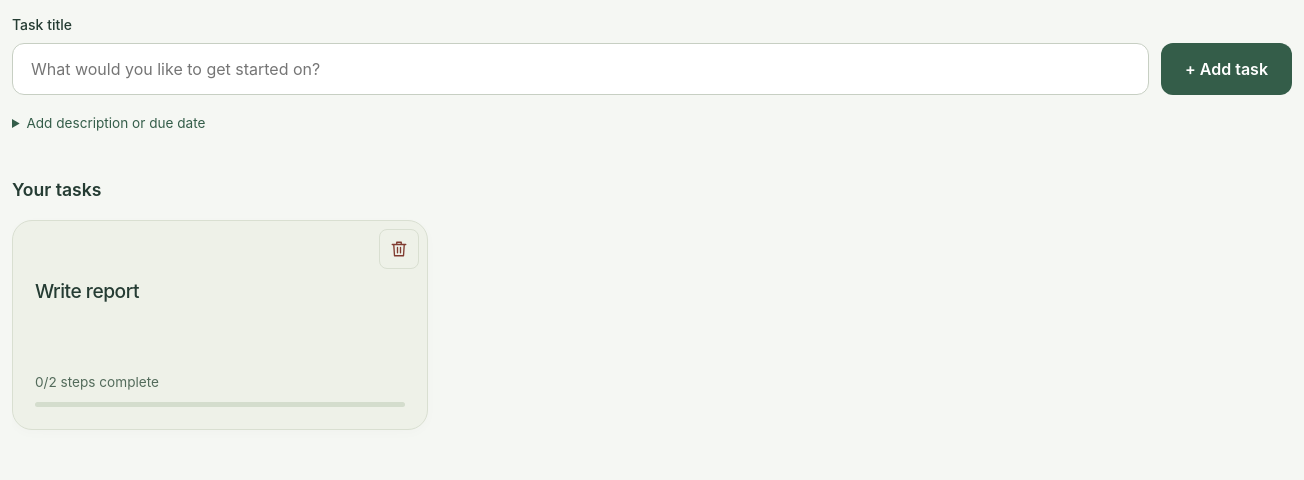
Test: focus keeps the current step visible, hides other steps, and resets for the next step
Click the button "Write report 0/2 steps complete" at x=87, y=291, box [13,221,427,429]
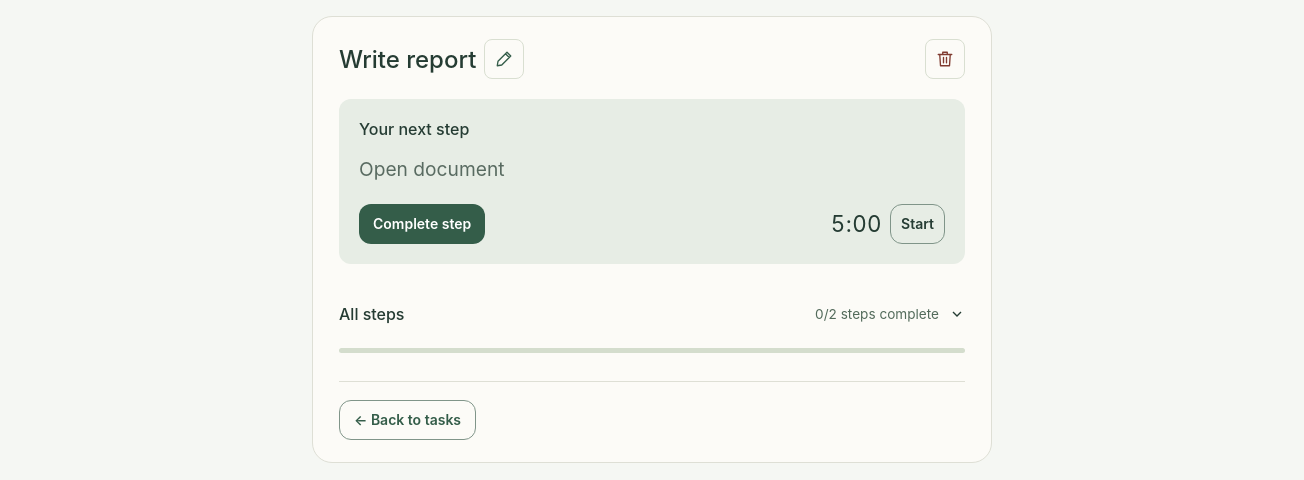
Click the button with aria-label "Start 5-minute focus" at x=918, y=224, box [890,204,945,244]
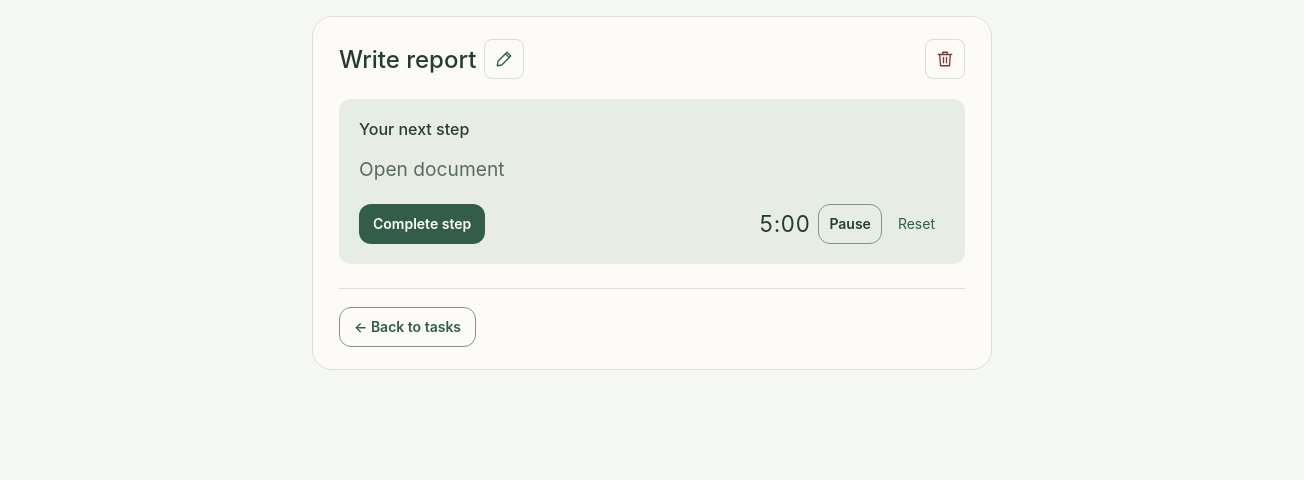
Expected: the text "Write one line" is not shown
Now the text "Open document" is shown, box [359,157,504,181]
Now the button "All steps" is gone
Click the button "Pause" at x=850, y=224, box [818,204,882,244]
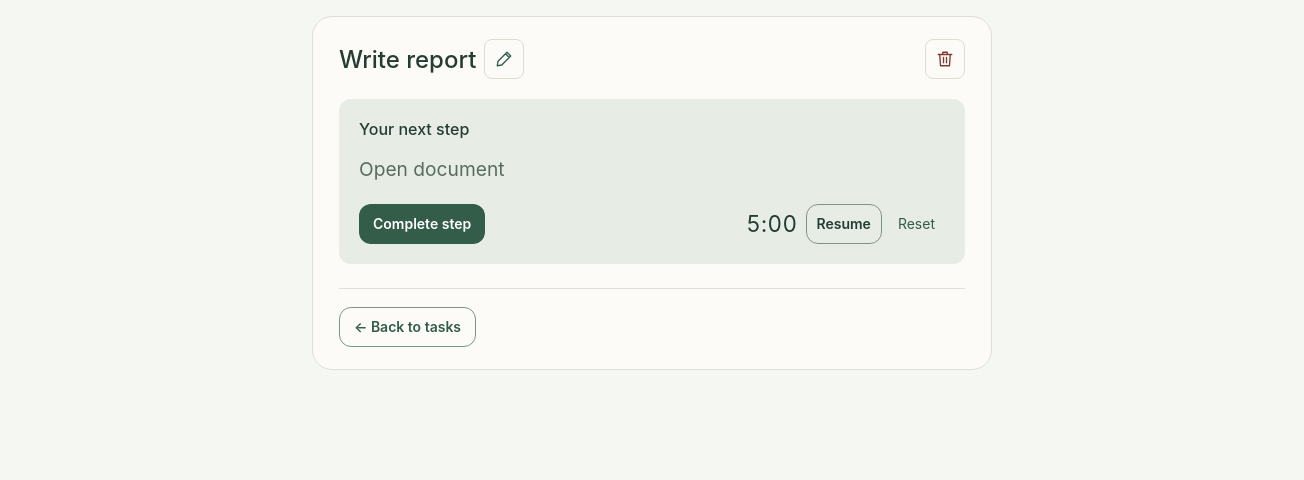
Now the button "Resume" is shown, box [806,204,882,244]
Click the button with aria-label "Reset timer" at x=916, y=224, box [888,204,945,244]
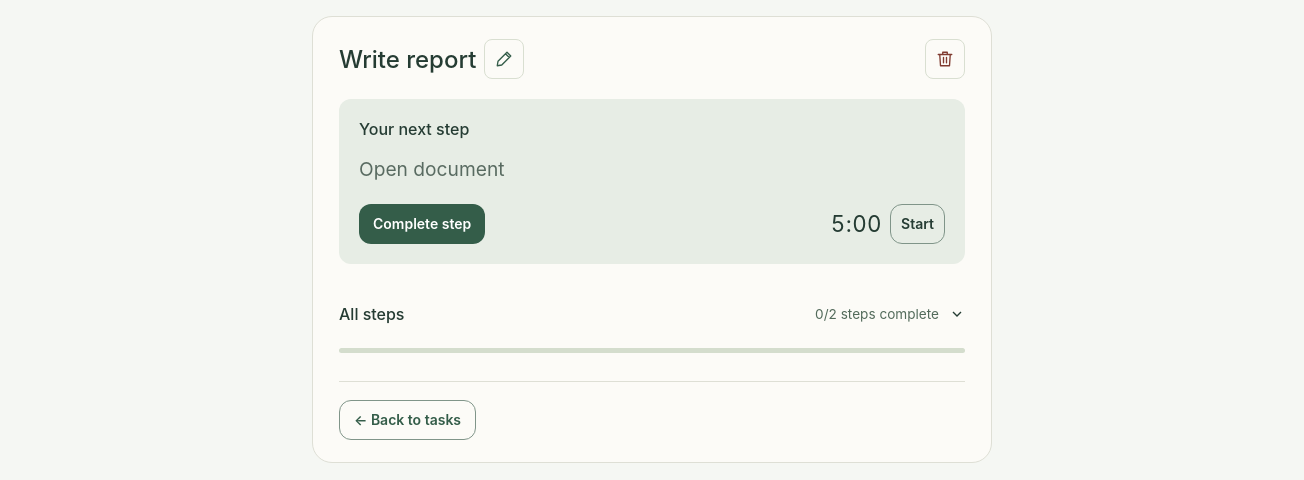
Now the element "All steps" is shown, box [339,292,965,353]
Click the button with aria-label "Start 5-minute focus" at x=918, y=224, box [890,204,945,244]
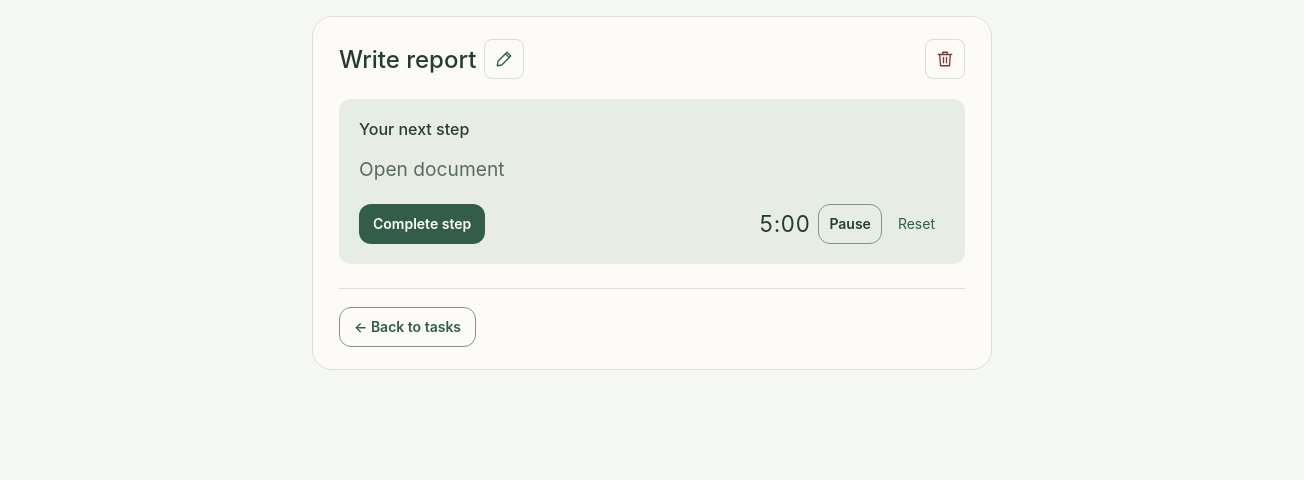
Click the button "Complete step" at x=422, y=224, box [359,204,485,244]
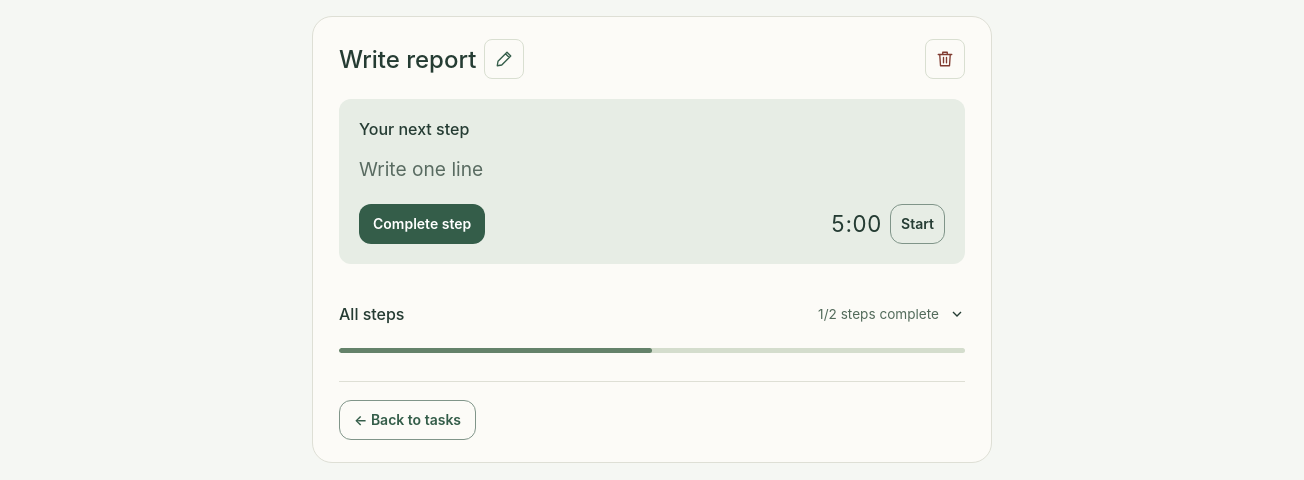
Now the text "5:00" is shown, box [831,210,882,237]
Now the button with aria-label "Start 5-minute focus" is shown, box [890,204,945,244]
Now the text "Write one line" is shown, box [359,157,483,181]
